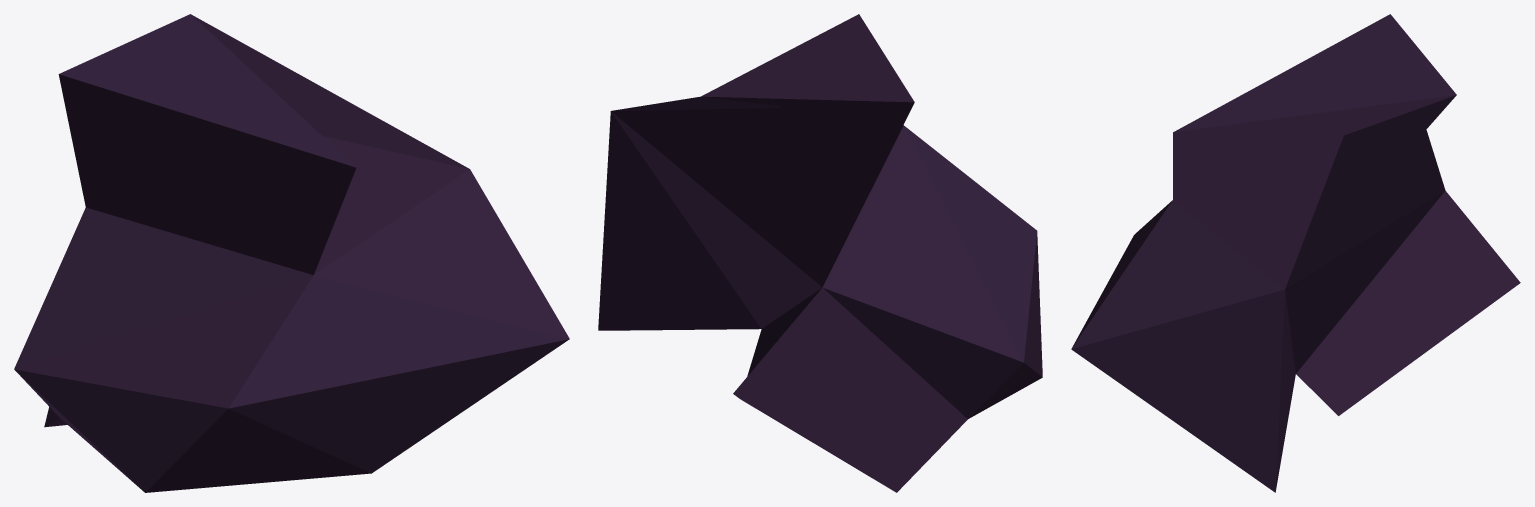
The model's file is rock3.fbx.
The picture shows the model from 3 angles, left to right: view 1: azimuth 30°, elevation 25°; view 2: azimuth 150°, elevation 25°; view 3: azimuth 270°, elevation 25°; orthographic projection. The views are drawn at different scales.
Visible parts, largest first — view 1: Rock3; view 2: Rock3; view 3: Rock3.
Part boxes in pixels (box(x1,y1,x2,y2)): Rock3: box(14, 14, 569, 492); Rock3: box(598, 14, 1042, 492); Rock3: box(1071, 14, 1520, 492).
Bounding box in the file's own units: 38.5 × 37.88 × 30.22.
